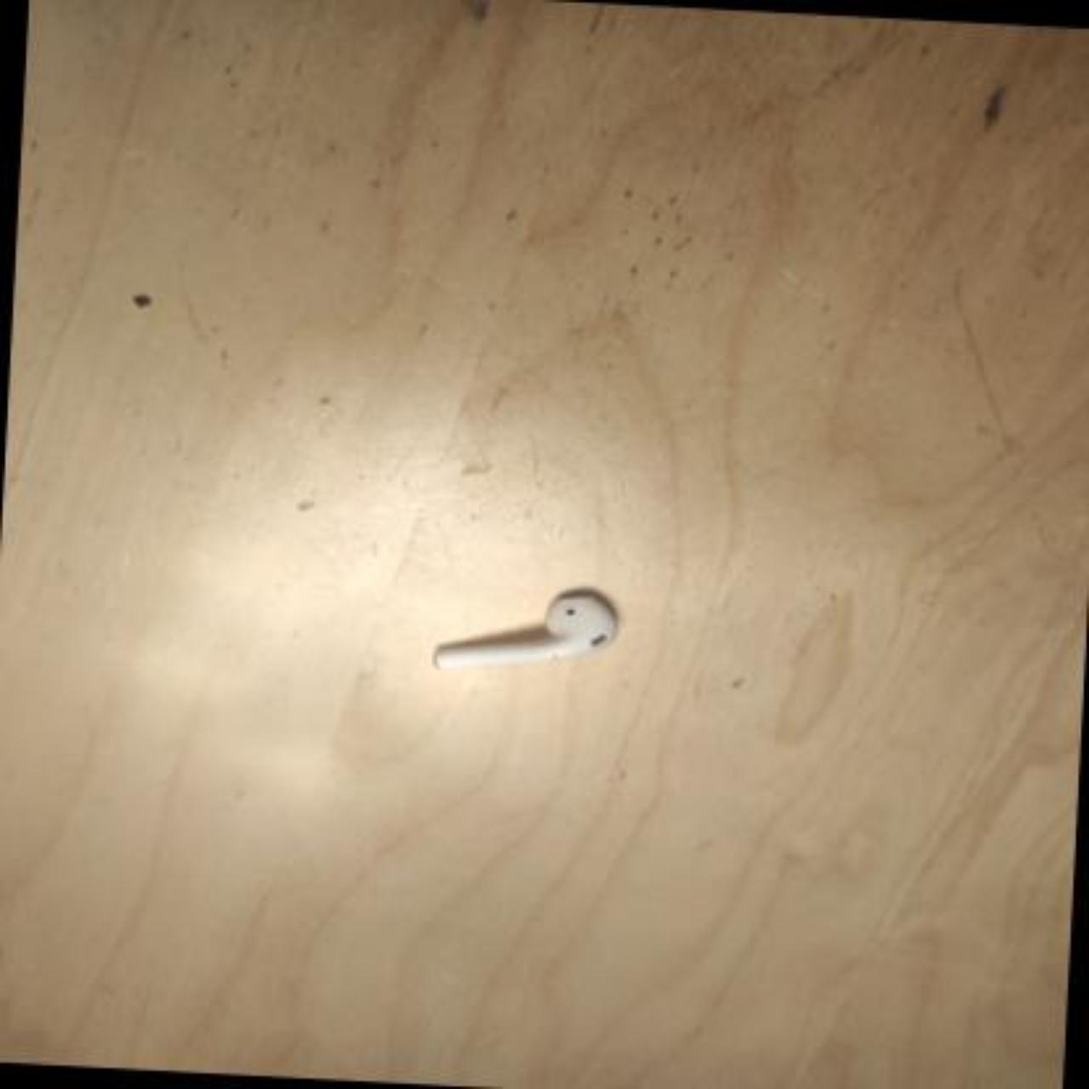Airpods_Units: (427, 585, 623, 679)
